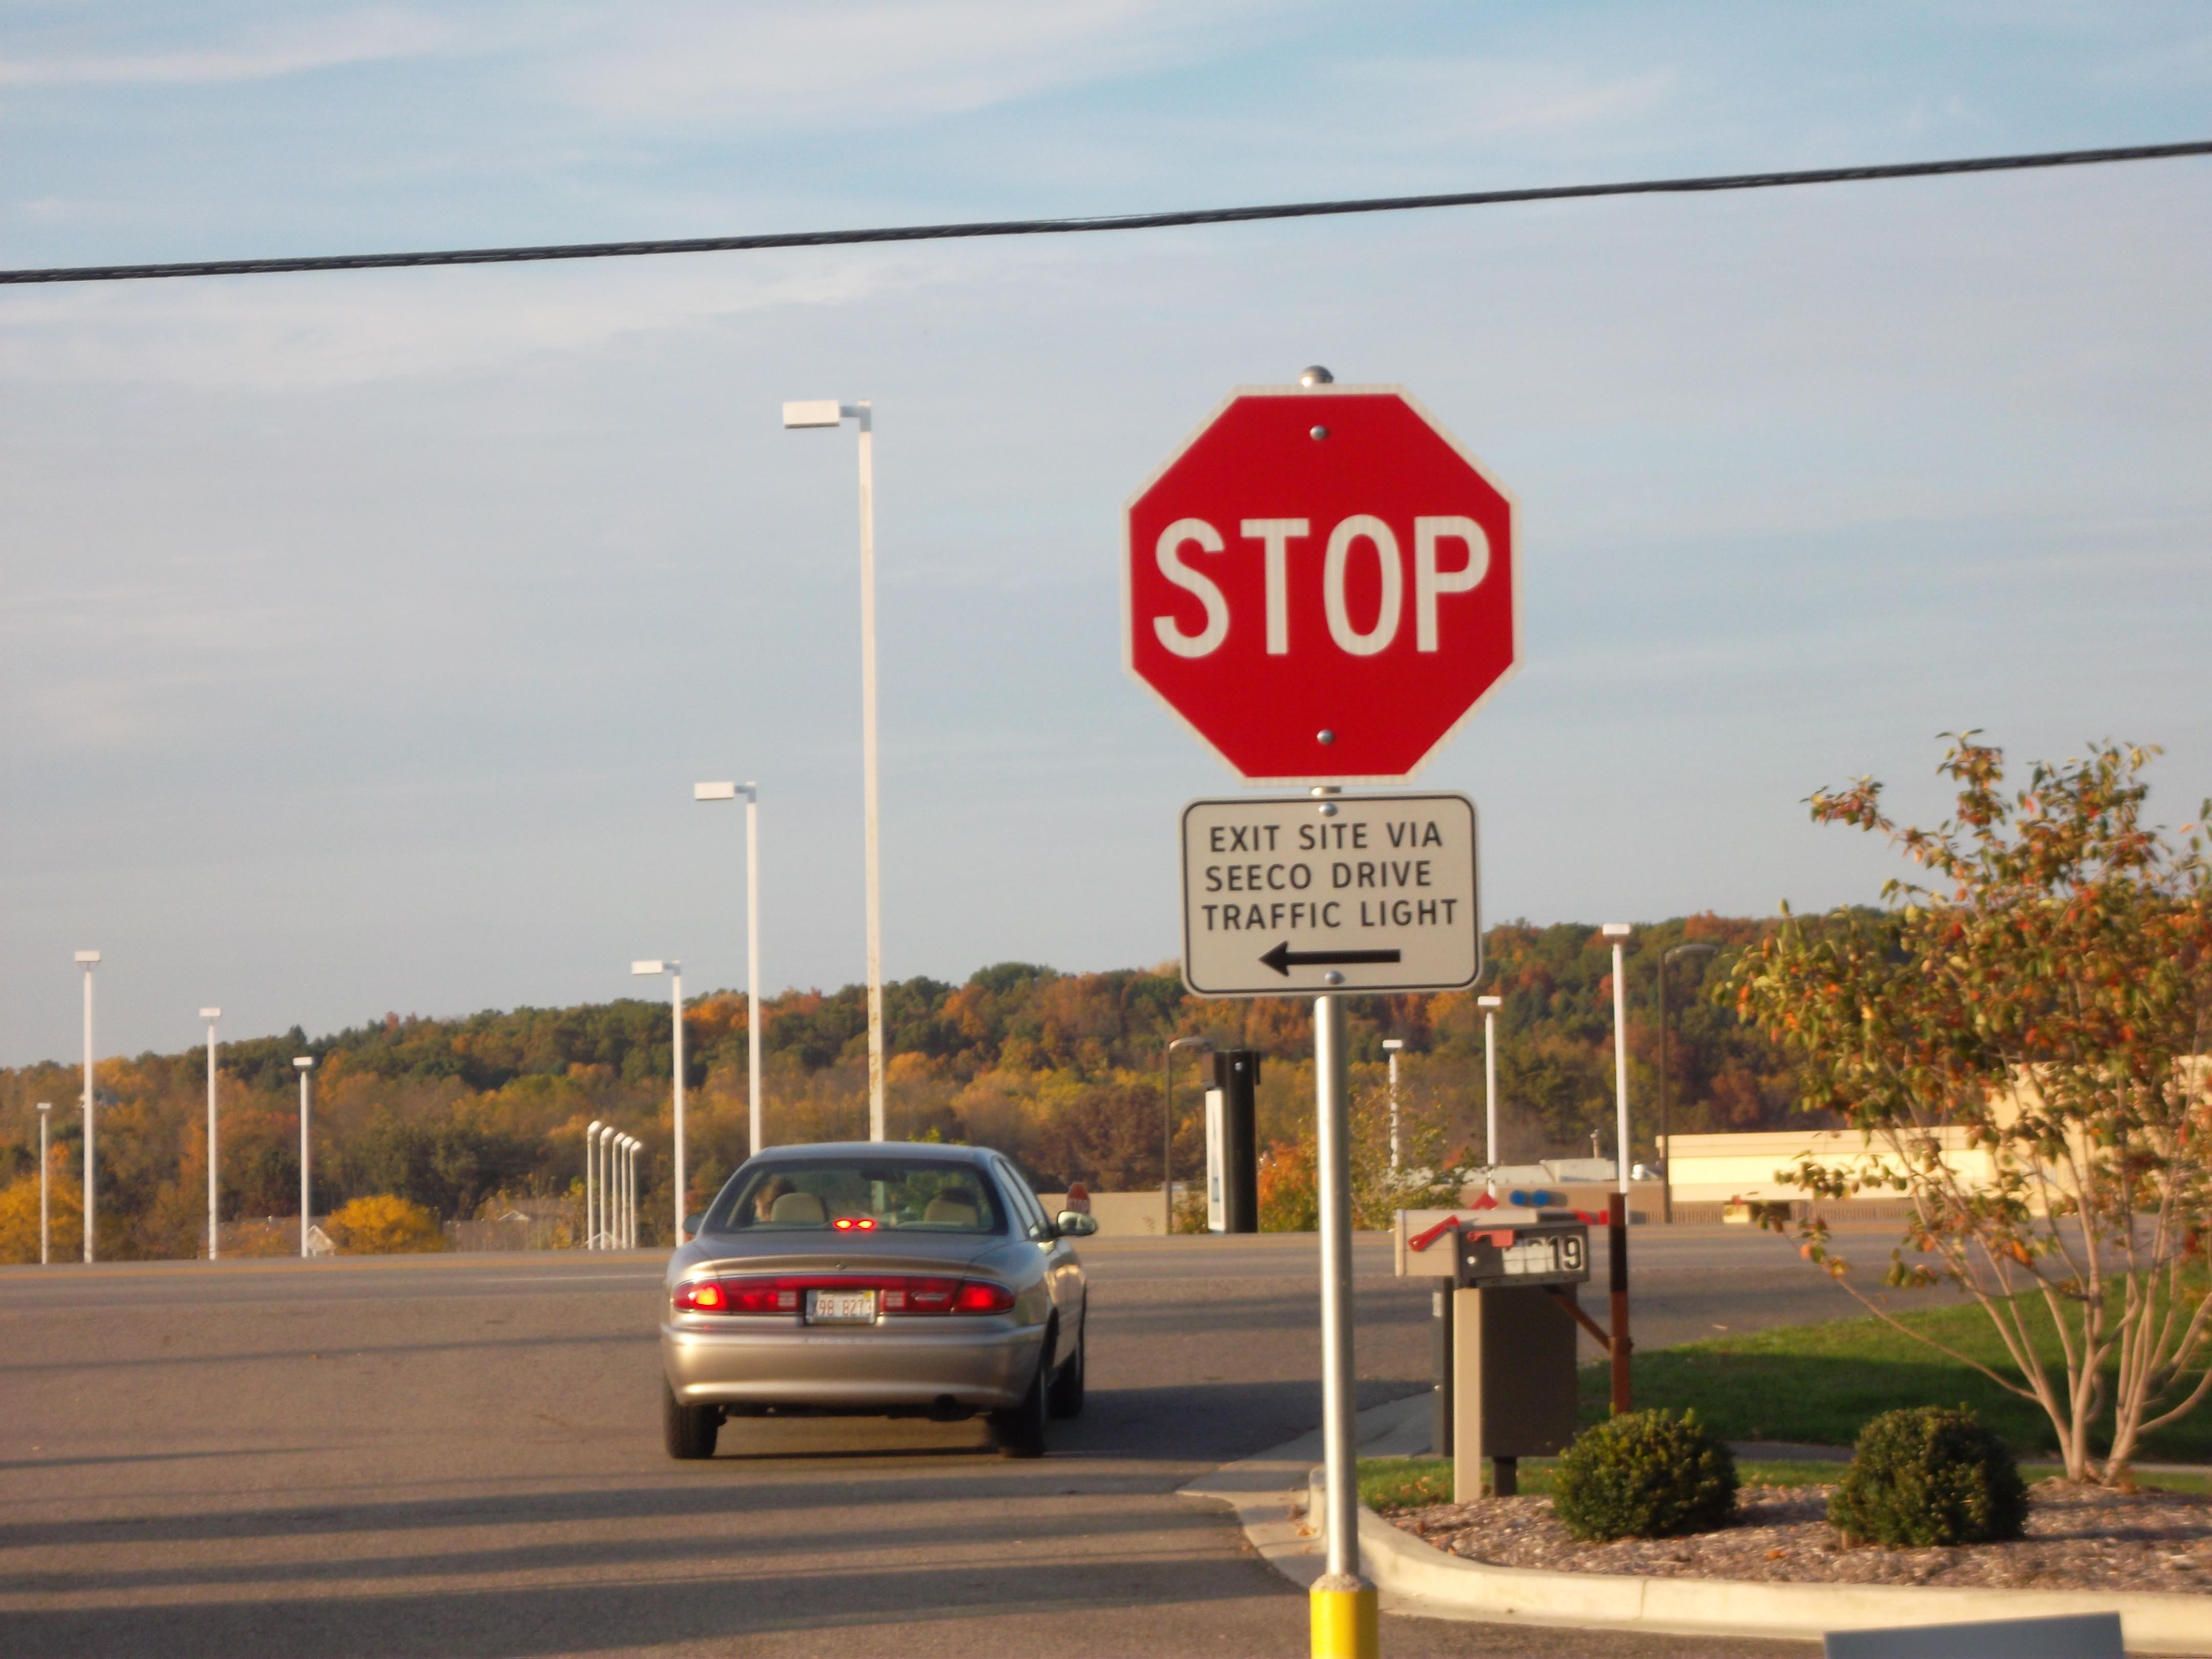regulatory: (1167, 793, 1498, 1000)
stop: (1111, 369, 1536, 788)
